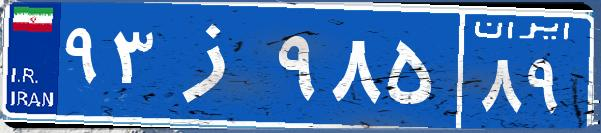3: (110, 28, 158, 105)
5: (385, 28, 445, 110)
8: (330, 28, 385, 110), (475, 38, 525, 113)
9: (273, 28, 330, 110), (57, 26, 110, 107), (525, 38, 570, 115)
ز: (158, 15, 273, 115)
